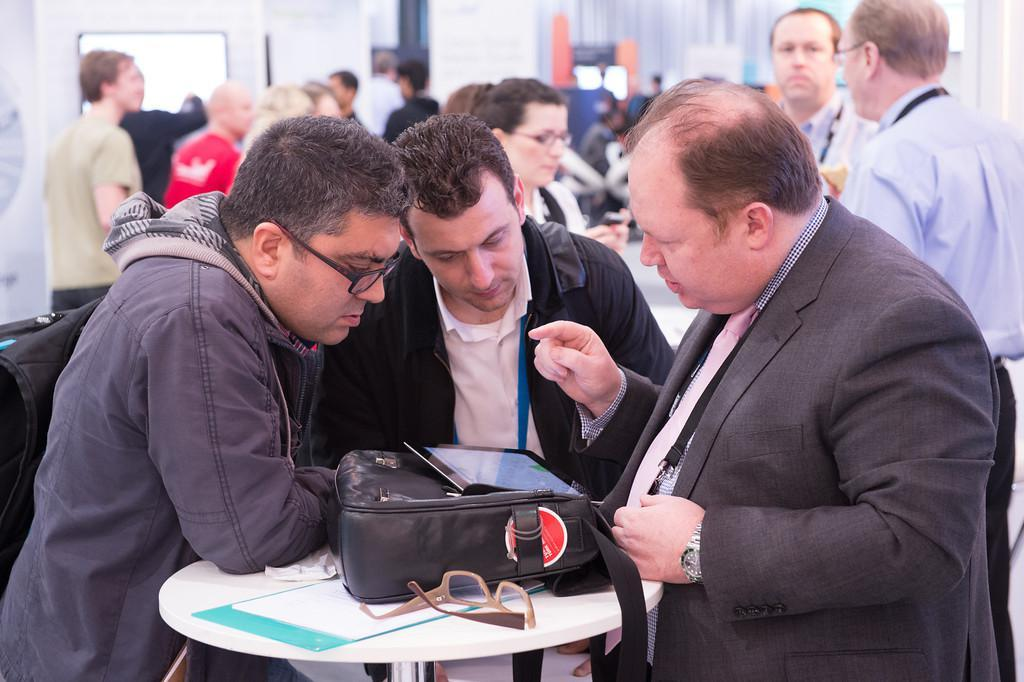Luggage-and-bags: (329, 445, 644, 681)
